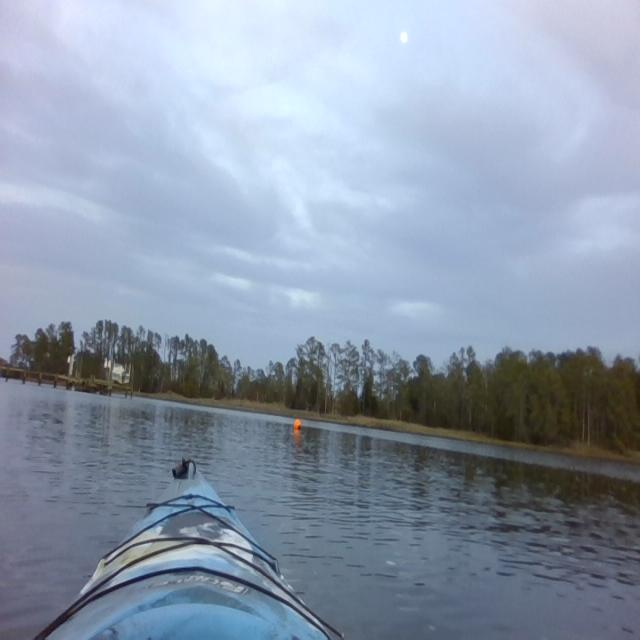Buoy: (294, 417, 302, 432)
